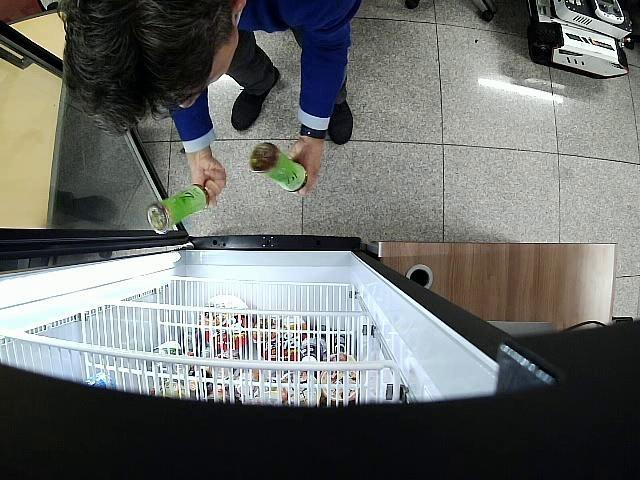19_17cha: (147, 184, 209, 234), (250, 142, 308, 193)
